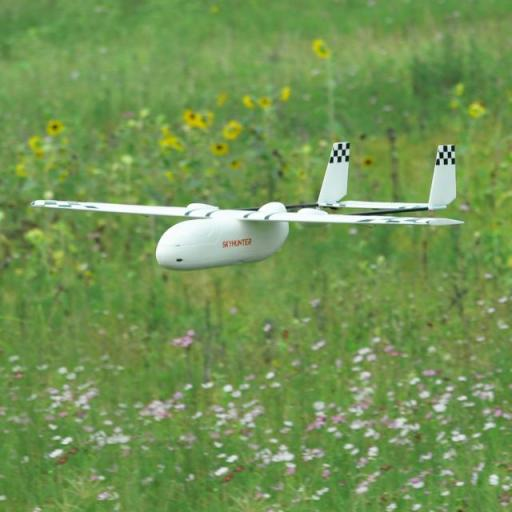uav: (26, 142, 469, 282)
